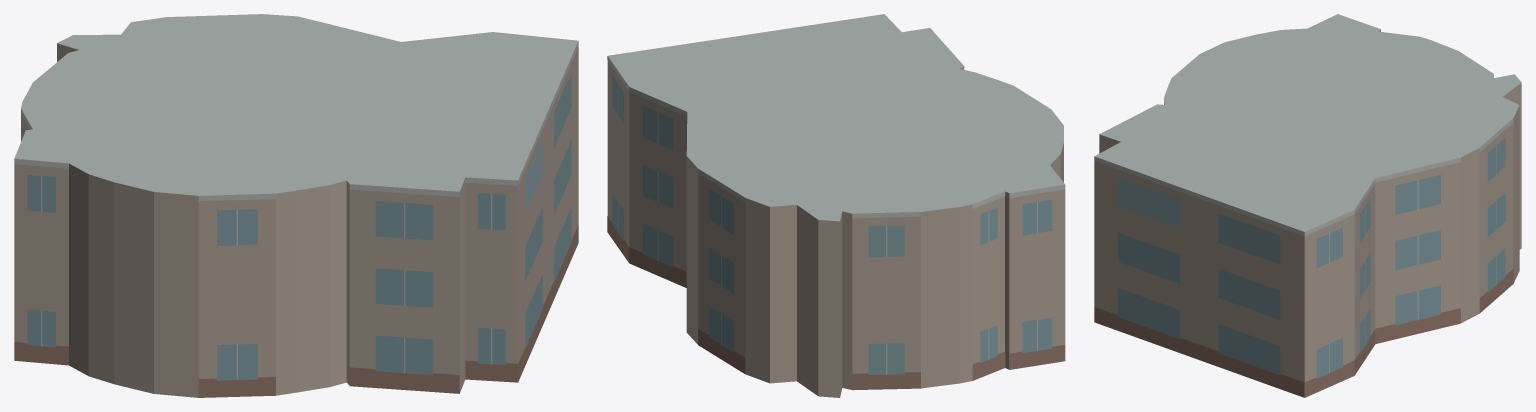
File: survey-upis-33019407.glb
3 renders of one model, left to right at view 1: azimuth 30°, elevation 25°; view 2: azimuth 150°, elevation 25°; view 3: azimuth 270°, elevation 25°, orthographic. The views are drawn at different scales.
Parts seen in each view (by area): view 1: survey-upis-33019407.tmp; view 2: survey-upis-33019407.tmp; view 3: survey-upis-33019407.tmp.
Part boxes in pixels (<box>): survey-upis-33019407.tmp: <box>14,14,578,397</box>; survey-upis-33019407.tmp: <box>607,14,1065,397</box>; survey-upis-33019407.tmp: <box>1094,14,1521,397</box>.
Size of the model in its own units: 25.8 by 9.15 by 21.38.
